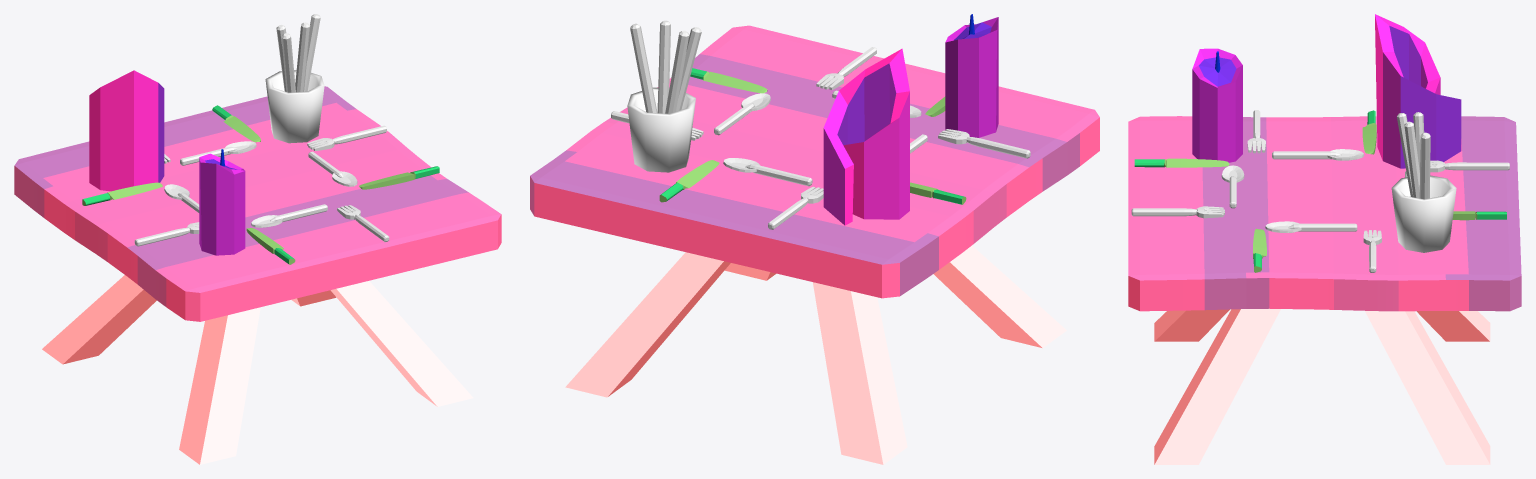
File: Large Table.fbx
3 views of the same model, side by side, from view 1: azimuth 30°, elevation 25°; view 2: azimuth 150°, elevation 25°; view 3: azimuth 270°, elevation 25° (orthographic). The views are drawn at different scales.
Visible parts, largest first — view 1: Cube, Cube_003, Napkin_2, Cube_001, Cube_002, Candle, Cylinder, Cylinder_002, Napkin, Fork_3, Spoon, Knife_1 (+8 smaller); view 2: Cube, Napkin, Cube_002, Cube_004, Cube_003, Candle_2, Napkin_2, Cylinder, Cylinder_002, Fork_1, Spoon_2, Knife_3 (+5 smaller); view 3: Cube, Napkin, Cube_001, Cube_004, Candle_2, Cylinder, Cylinder_002, Cube_003, Cube_002, Fork, Spoon_3, Spoon_1 (+9 smaller).
Boxes of the visible parts, x1,y1,x2,y2 form: Cube: (14, 86, 501, 321); Cube_003: (179, 307, 260, 464); Napkin_2: (89, 70, 164, 191); Cube_001: (330, 281, 473, 406); Cube_002: (42, 275, 156, 364); Candle: (199, 149, 245, 255); Cylinder: (265, 70, 324, 143); Cylinder_002: (276, 14, 320, 92); Napkin: (105, 72, 164, 186); Fork_3: (307, 125, 386, 150); Spoon: (251, 204, 327, 227); Knife_1: (82, 182, 162, 205); Cube: (530, 25, 1099, 298); Napkin: (823, 49, 909, 225); Cube_002: (812, 282, 907, 464); Cube_004: (565, 252, 730, 397); Cube_003: (933, 245, 1066, 348); Candle_2: (945, 14, 998, 137); Napkin_2: (823, 48, 909, 225); Cylinder: (627, 87, 695, 172); Cylinder_002: (630, 20, 701, 113); Fork_1: (938, 129, 1030, 158); Spoon_2: (723, 158, 812, 186); Knife_3: (690, 68, 767, 93); Cube: (1128, 116, 1521, 311); Napkin: (1375, 14, 1461, 168); Cube_001: (1154, 308, 1280, 464); Cube_004: (1365, 311, 1490, 464); Candle_2: (1192, 48, 1242, 162); Cylinder: (1391, 175, 1456, 252); Cylinder_002: (1397, 112, 1430, 199); Cube_003: (1154, 309, 1229, 341); Cube_002: (1416, 311, 1490, 341); Fork: (1131, 206, 1224, 218); Spoon_3: (1265, 221, 1357, 232); Spoon_1: (1272, 149, 1363, 160).
Size of what is drawn, in the model's own units: 100 by 93.48 by 101.
